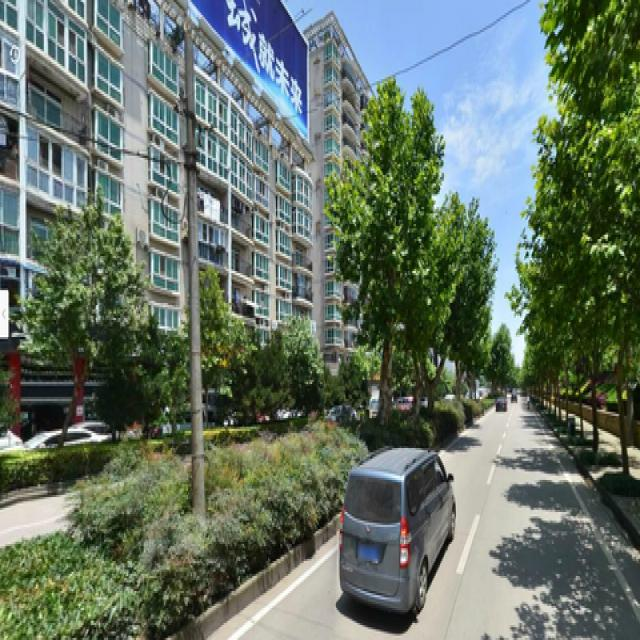meta: (351, 120, 424, 408)
